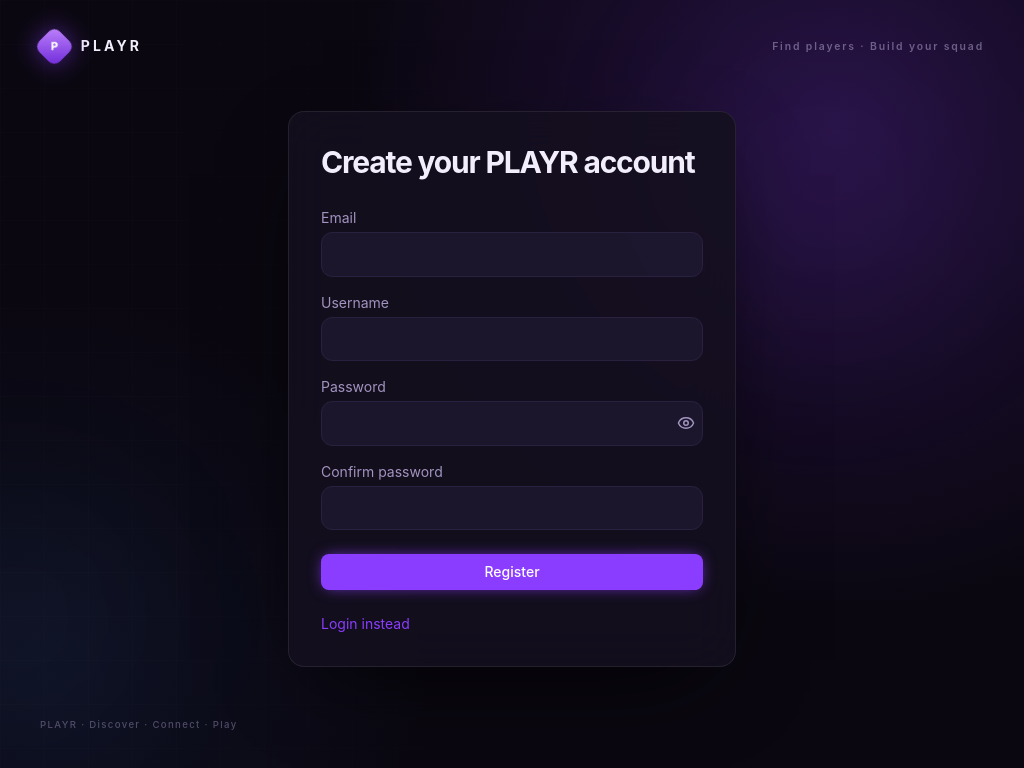
Test: RegisterPage › shows a terminal-style error message when the username is taken
Step 1. Type "a@b.com" into the field labelled "Email" → (512, 255), box 321,232 -> 703,277
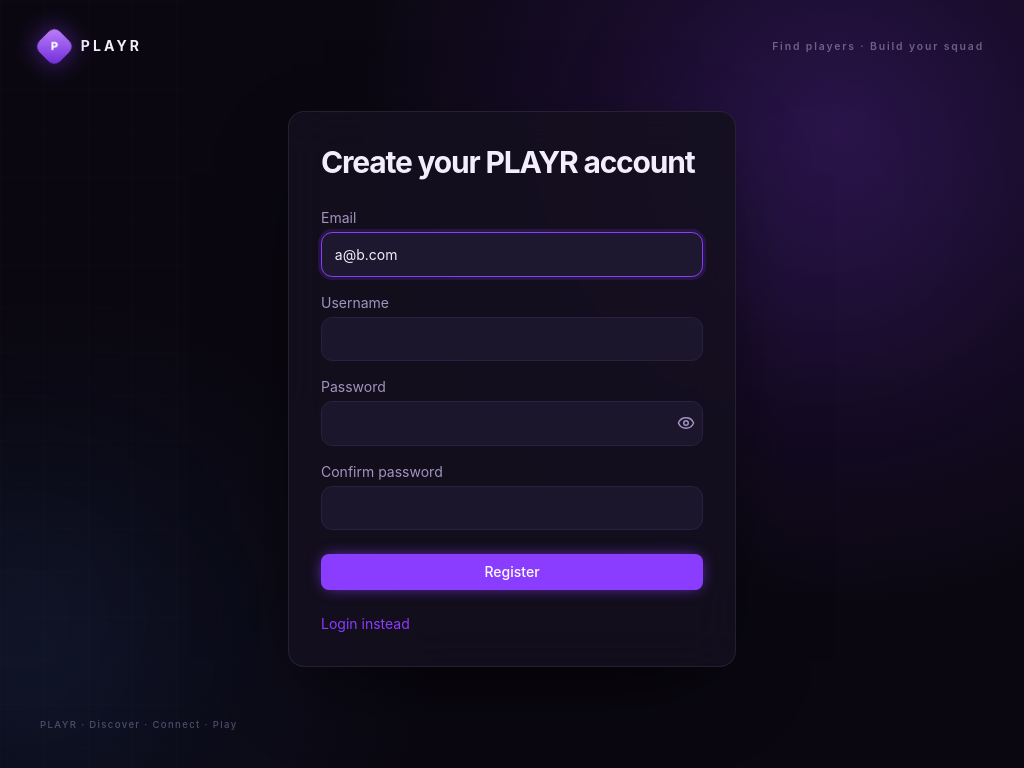
Step 2. Type "someone" into the field labelled "Username" → (512, 339), box 321,317 -> 703,361
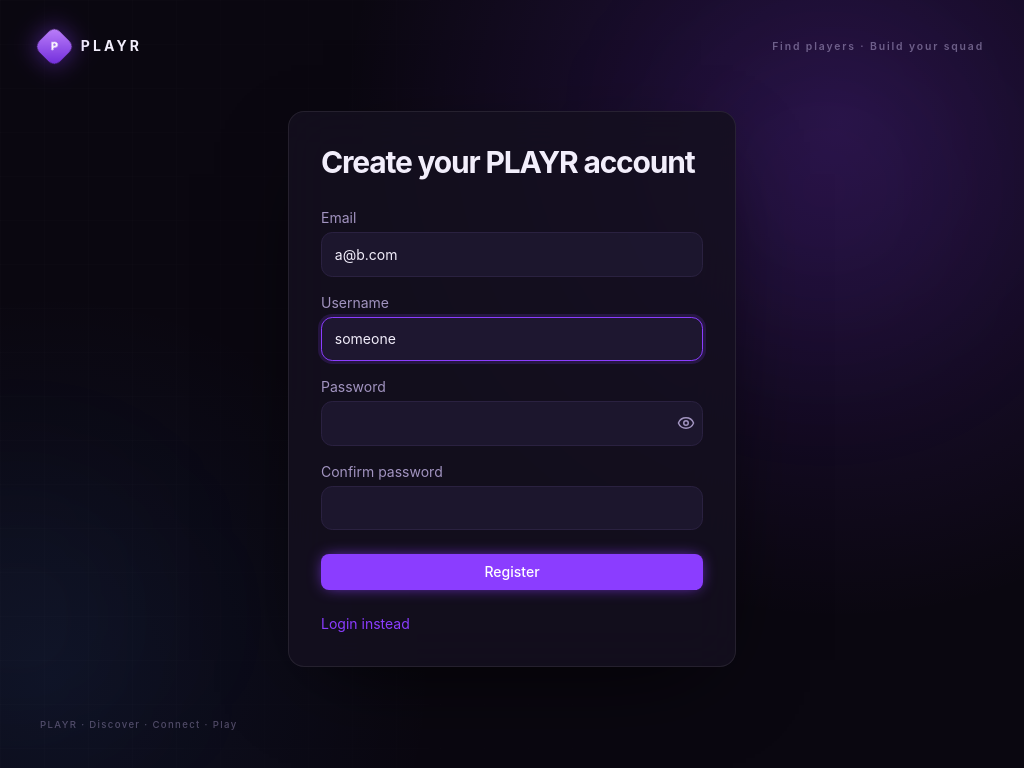
Step 3. Type "Tr0ub4dor&Elephant" into the password field labelled "Password" → (512, 423), box 321,401 -> 703,446
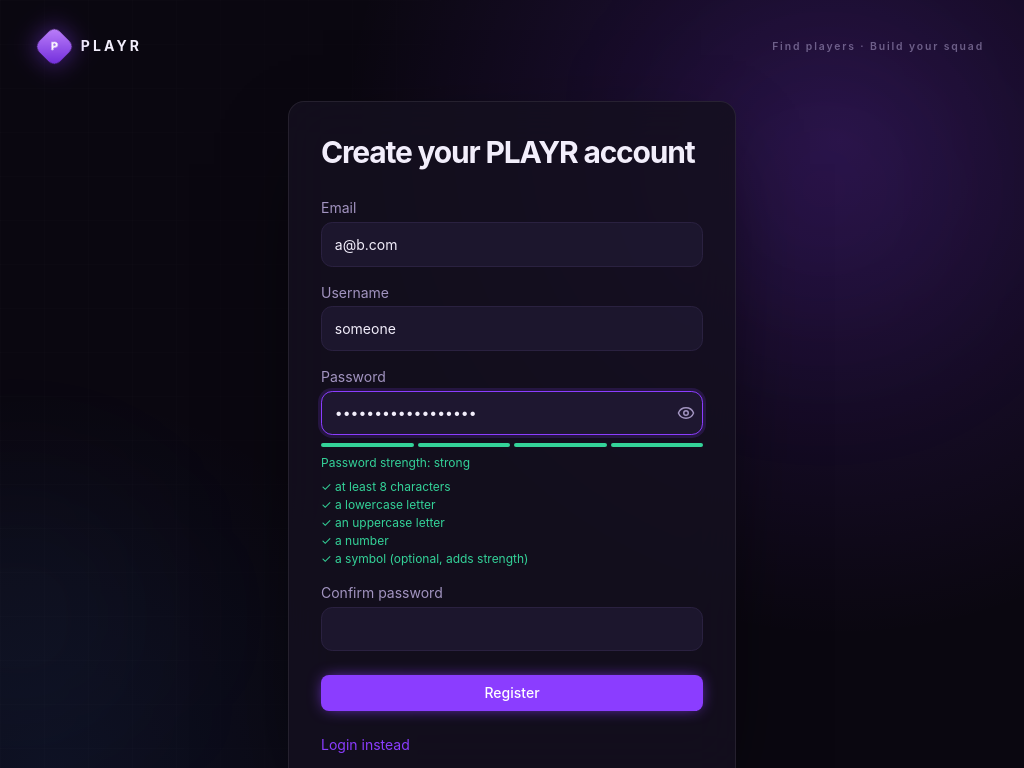
Step 4. Type "Tr0ub4dor&Elephant" into the password field labelled "Confirm password" → (512, 629), box 321,607 -> 703,651
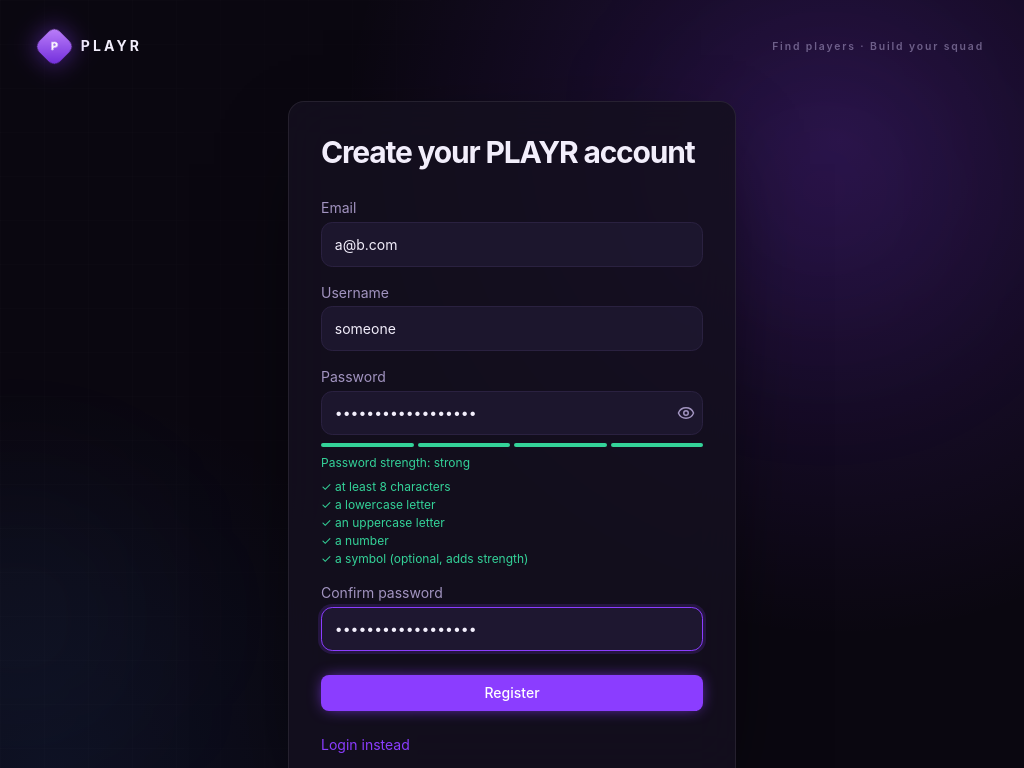
Step 5. Click the button "Register" → (512, 693), box 321,675 -> 703,711
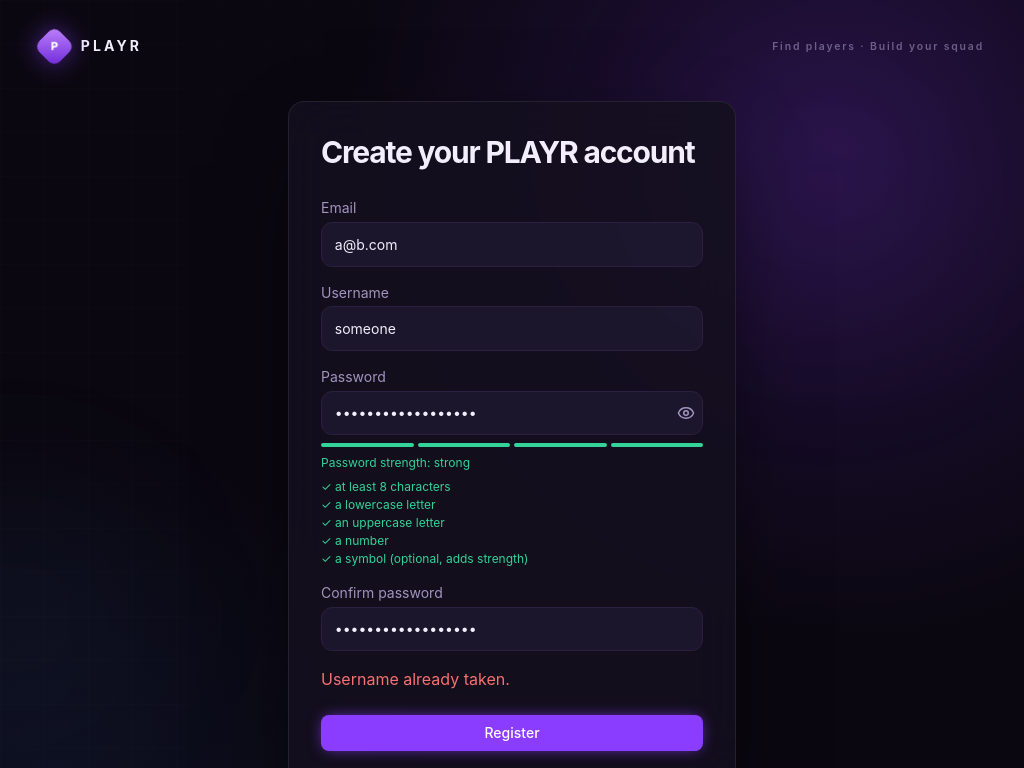
Result: the text "Username already taken." is shown at 321,669 -> 510,689
